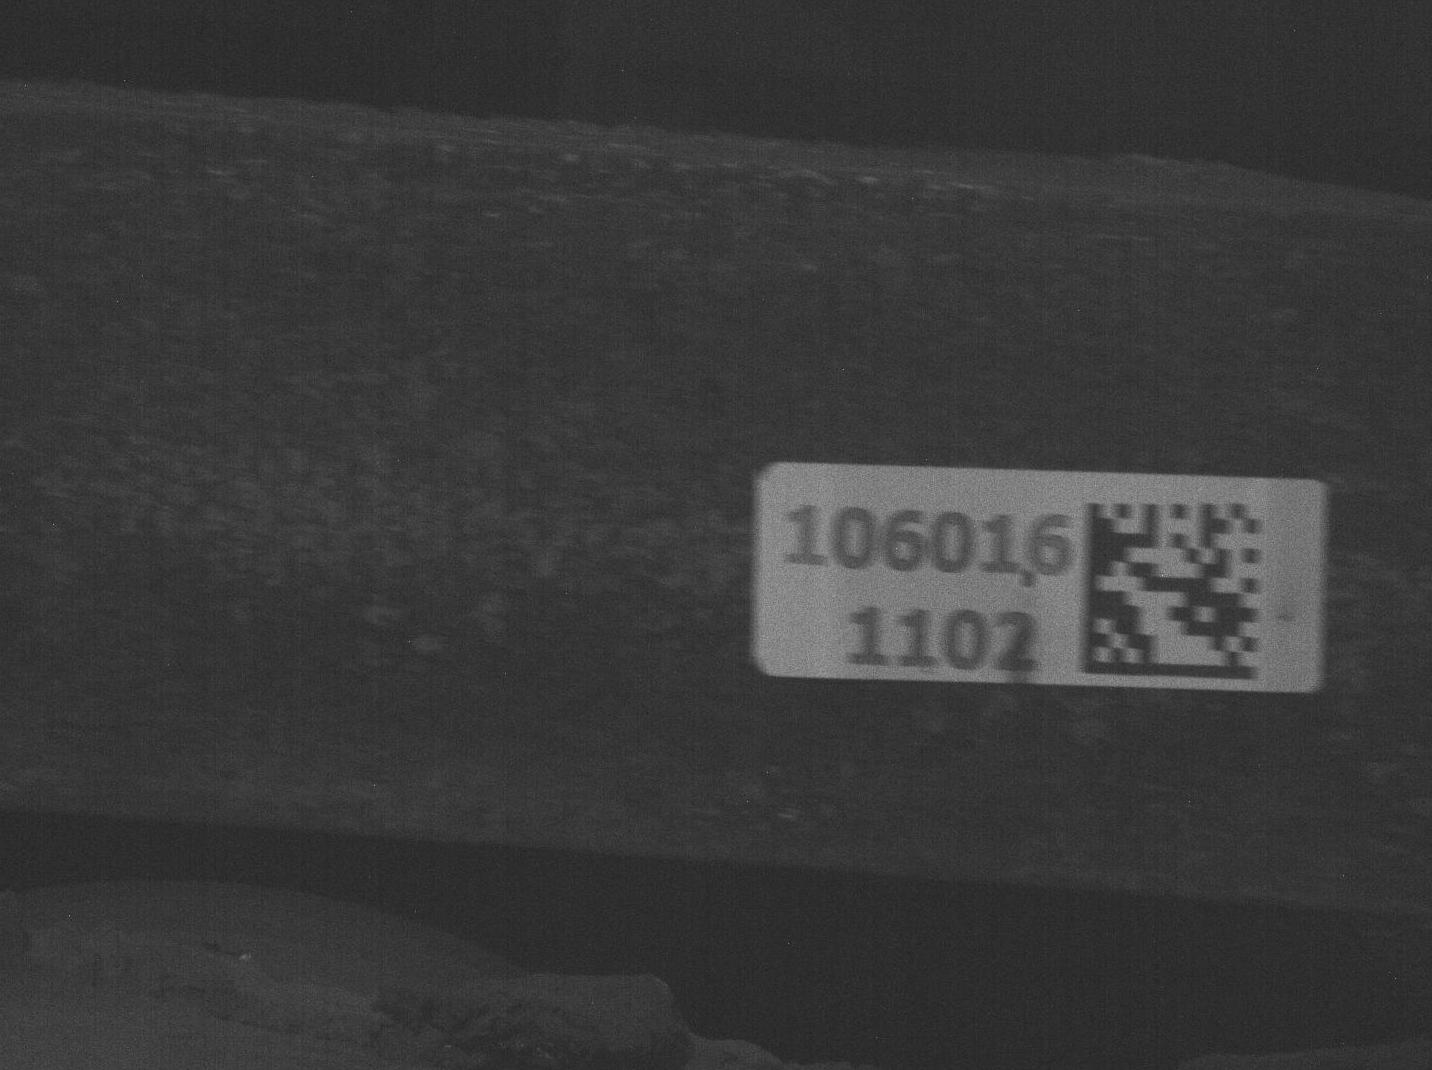data matrix: (1069, 492, 1279, 691)
